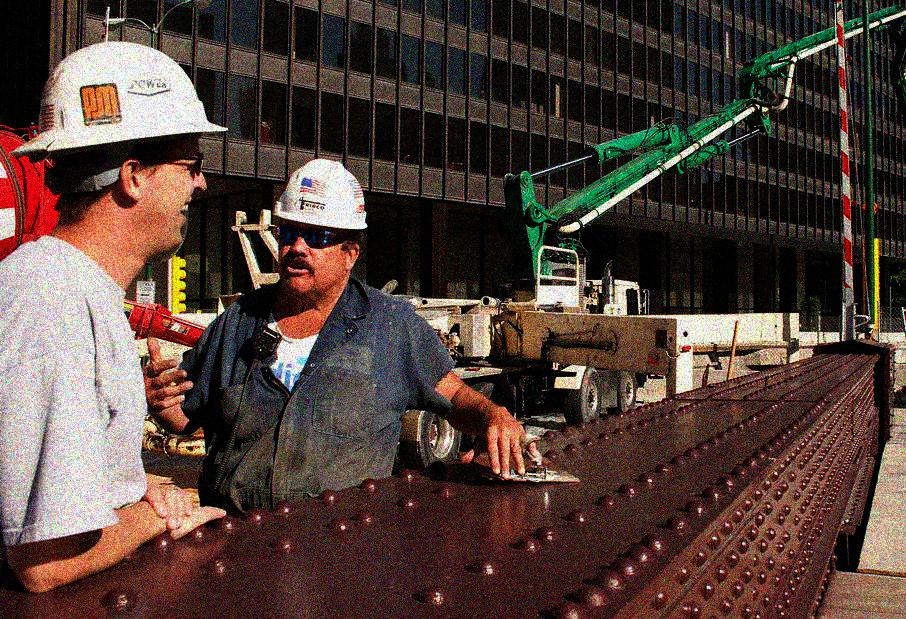helmet: (13, 37, 231, 257), (265, 157, 376, 292)
